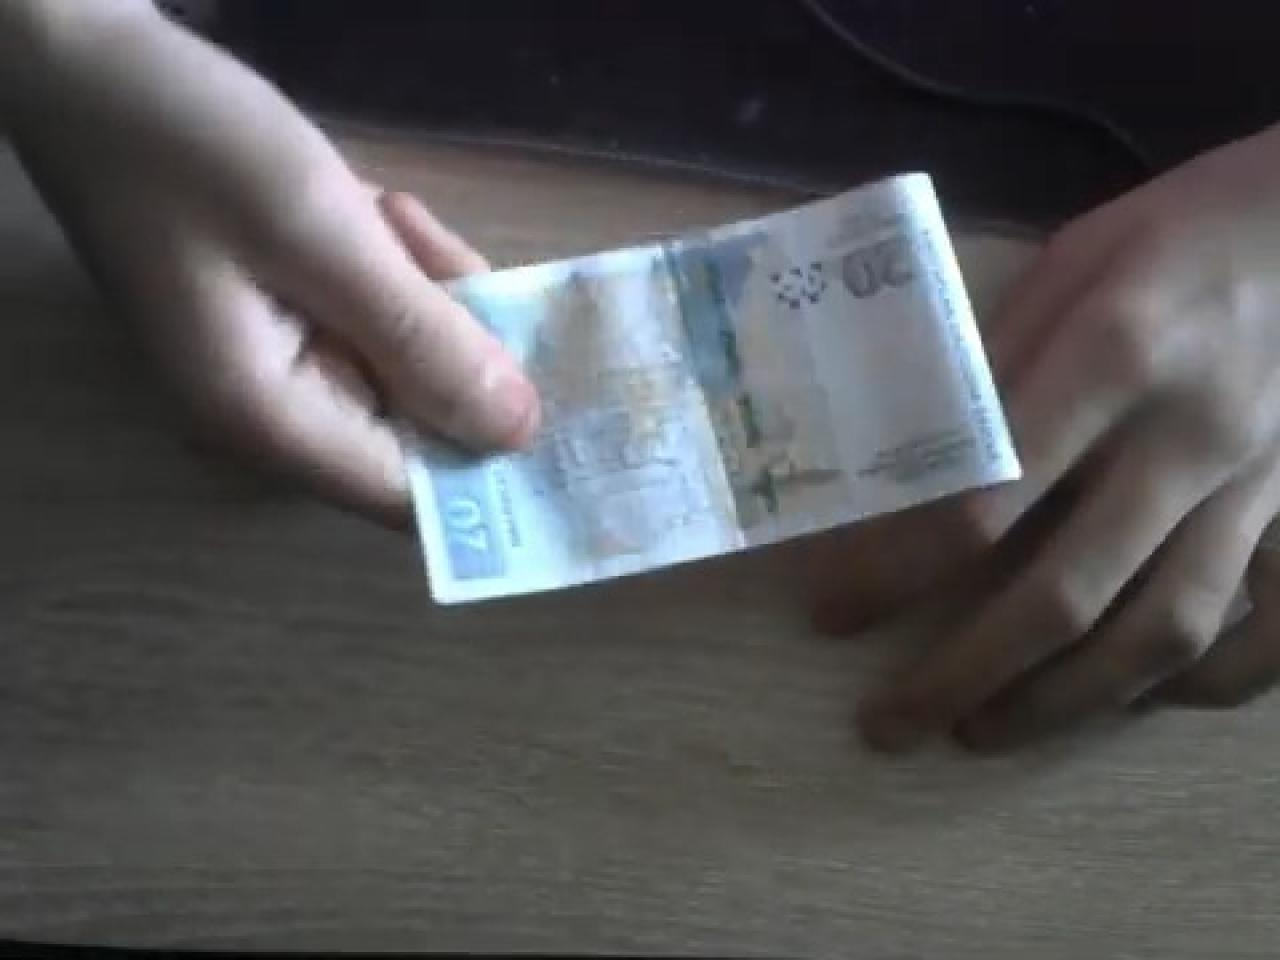20leva: (389, 165, 1024, 608)
